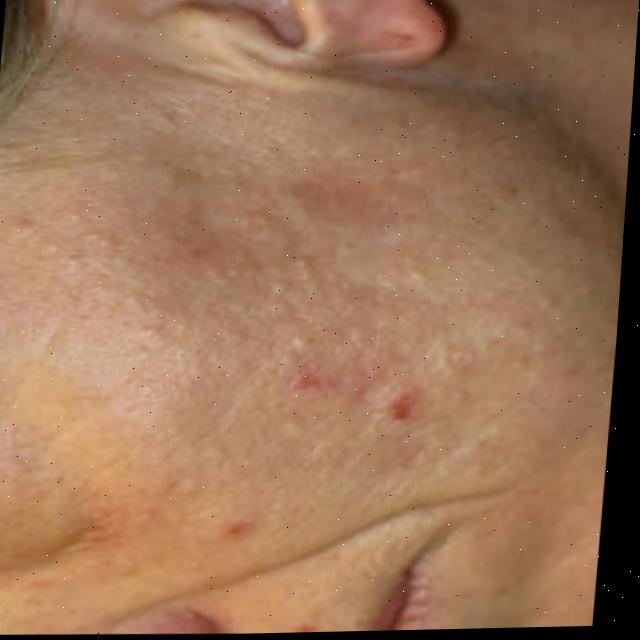Acne: (278, 156, 383, 216), (392, 391, 429, 414), (289, 364, 314, 396), (225, 520, 244, 541)
